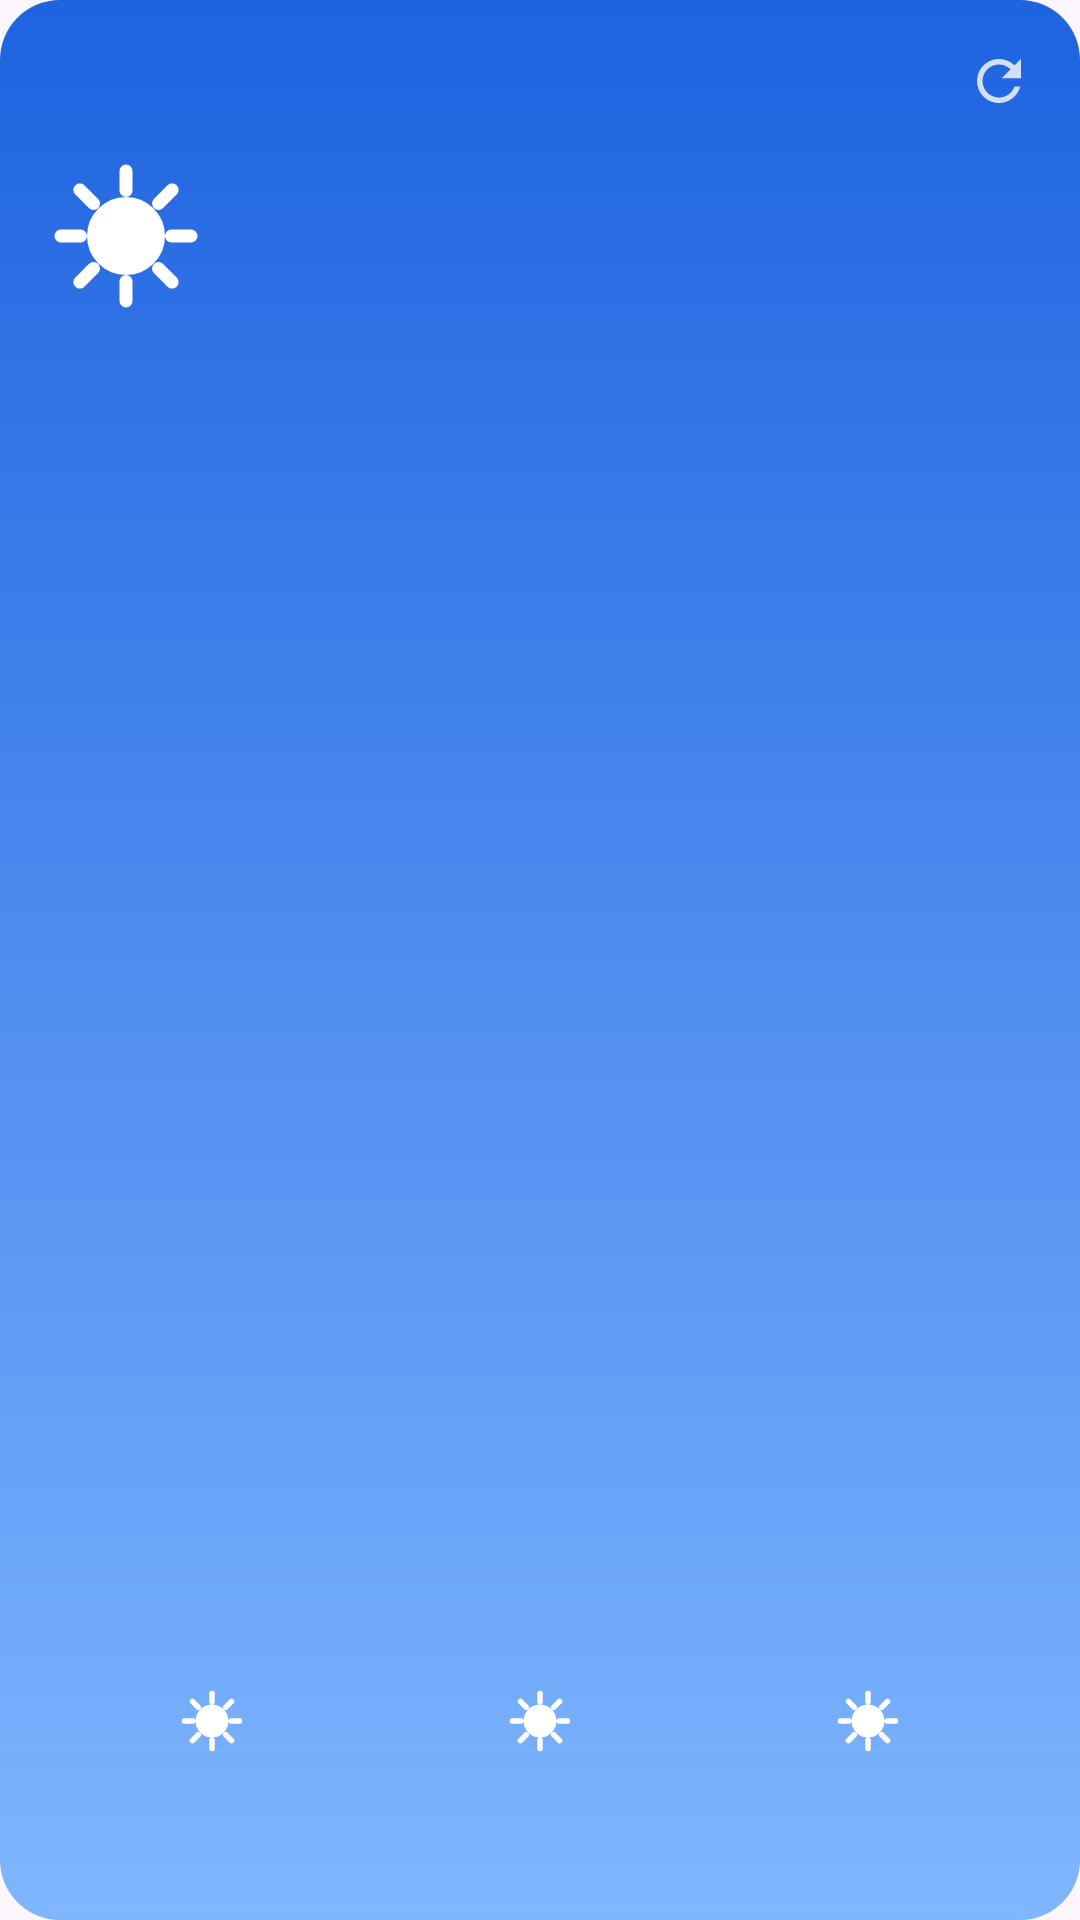

Named icons in this screenshot (1080 × 1920) and their centers, [x,y]:
refresh: [999,81]
sun: [126,236], [212,1721], [540,1721], [868,1721]
